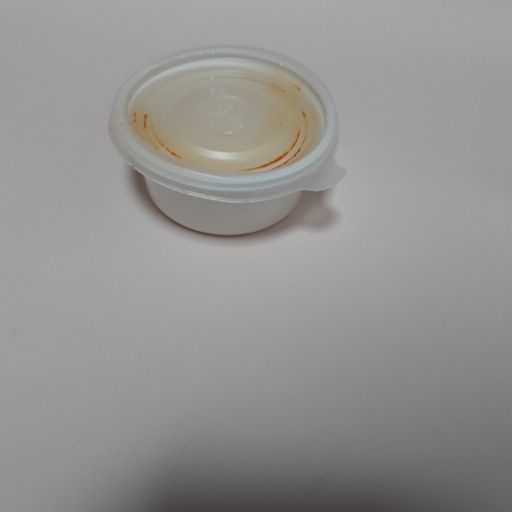Plastic_5: (103, 41, 352, 240)
